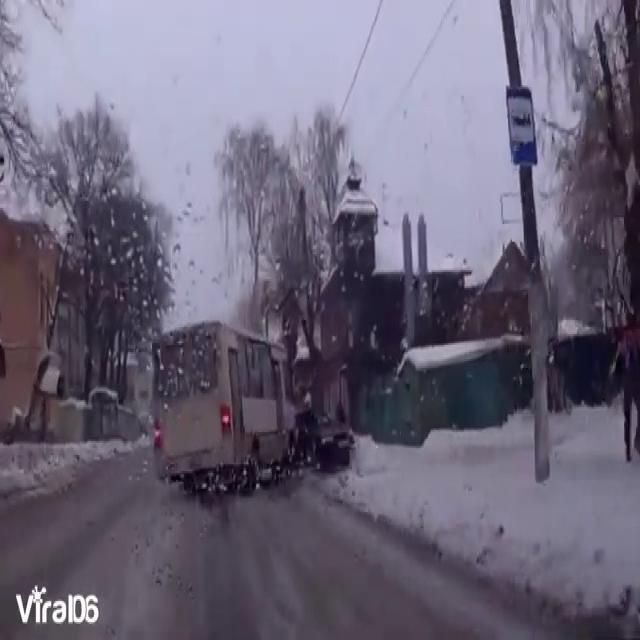high-cars-accident: (126, 296, 354, 502)
